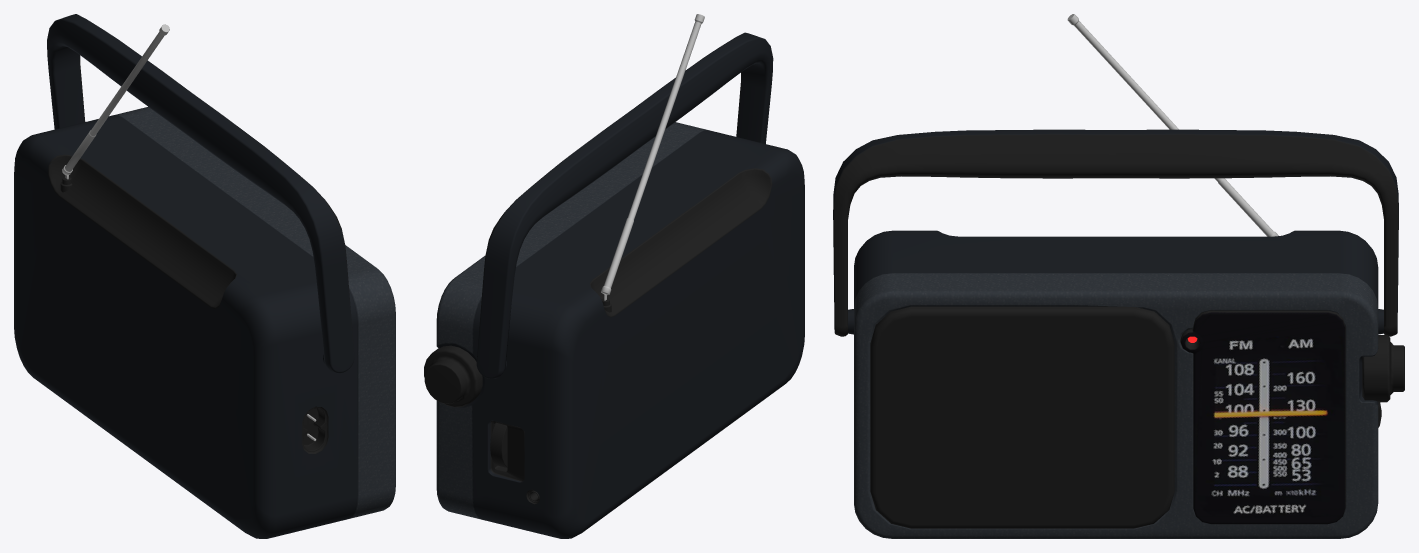
The model's file is radio.glb.
3 views of the same model, side by side, from view 1: azimuth 30°, elevation 25°; view 2: azimuth 150°, elevation 25°; view 3: azimuth 270°, elevation 25° (orthographic). The views are drawn at different scales.
Parts seen in each view (by area): view 1: Radio_body_low, Handle_low, Power_Socket_low, Antenna_low; view 2: Radio_body_low, Handle_low, Tuner_low, Vol_and_AUX_Panel_low, Antenna_low, Volume_square_low, Volume_Wheel_low; view 3: Speaker_low, Radio_body_low, Control_area_low, Handle_low, Tuner_low, Antenna_low.
Part boxes in pixels (x1=…): Radio_body_low: x1=14, y1=107, x2=395, y2=538; Handle_low: x1=47, y1=14, x2=354, y2=373; Power_Socket_low: x1=296, y1=390, x2=336, y2=474; Antenna_low: x1=62, y1=24, x2=169, y2=175; Radio_body_low: x1=436, y1=122, x2=804, y2=538; Handle_low: x1=476, y1=32, x2=773, y2=378; Tuner_low: x1=424, y1=345, x2=482, y2=407; Vol_and_AUX_Panel_low: x1=486, y1=417, x2=542, y2=508; Antenna_low: x1=601, y1=14, x2=704, y2=294; Volume_square_low: x1=487, y1=420, x2=524, y2=482; Volume_Wheel_low: x1=490, y1=423, x2=507, y2=467; Speaker_low: x1=870, y1=306, x2=1174, y2=528; Radio_body_low: x1=854, y1=230, x2=1378, y2=538; Control_area_low: x1=1180, y1=310, x2=1345, y2=524; Handle_low: x1=833, y1=129, x2=1398, y2=336; Tuner_low: x1=1362, y1=335, x2=1404, y2=402; Antenna_low: x1=1067, y1=14, x2=1278, y2=236.
Size of the model in its own units: 7.58 by 22.77 by 25.51.
1 material, 1 textured.
